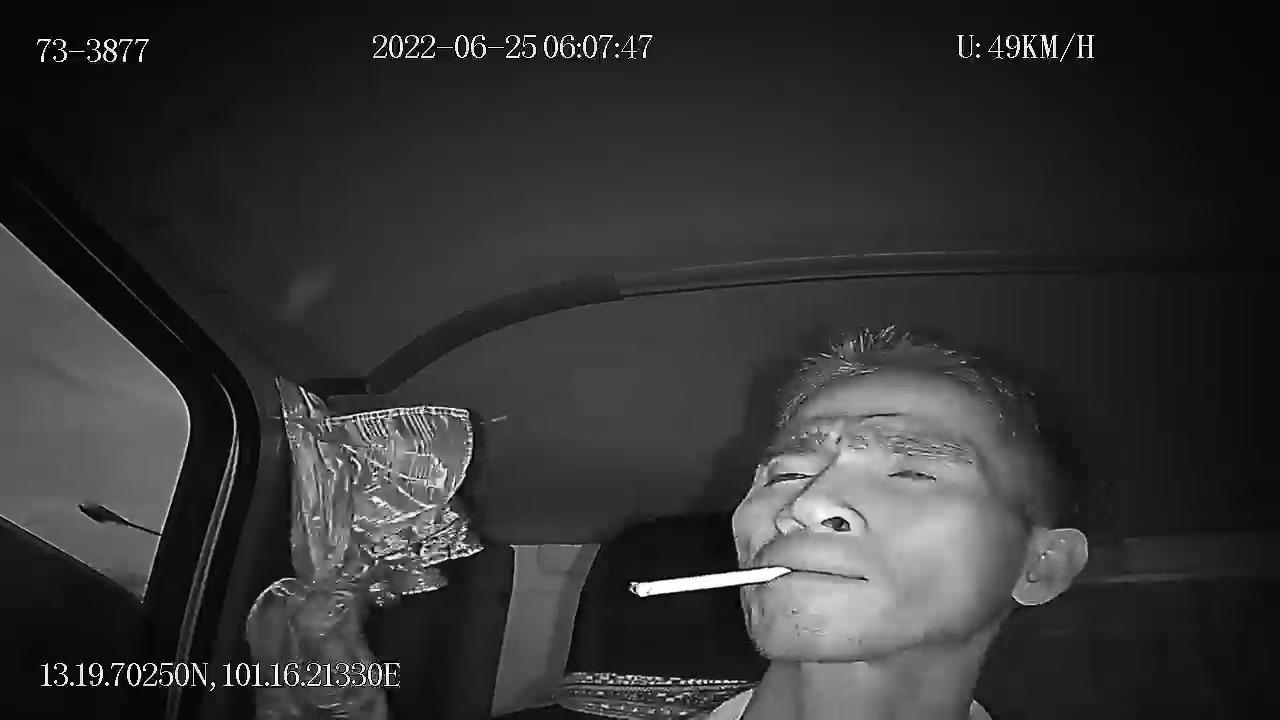Smoking: (586, 543, 800, 608)
